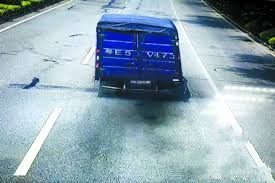smoke: (124, 95, 188, 136)
